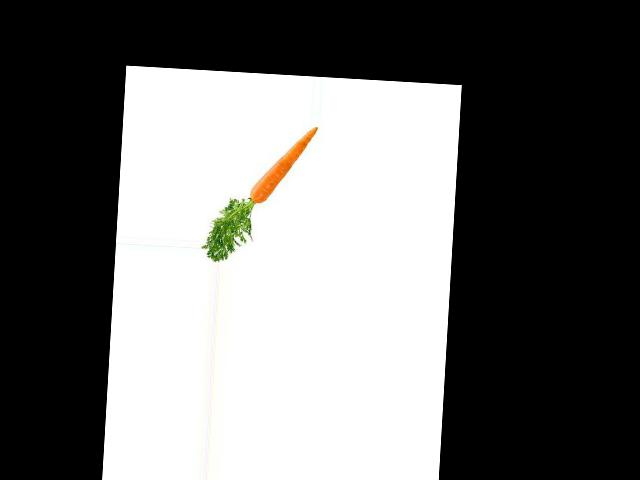carrot: (247, 121, 323, 208)
